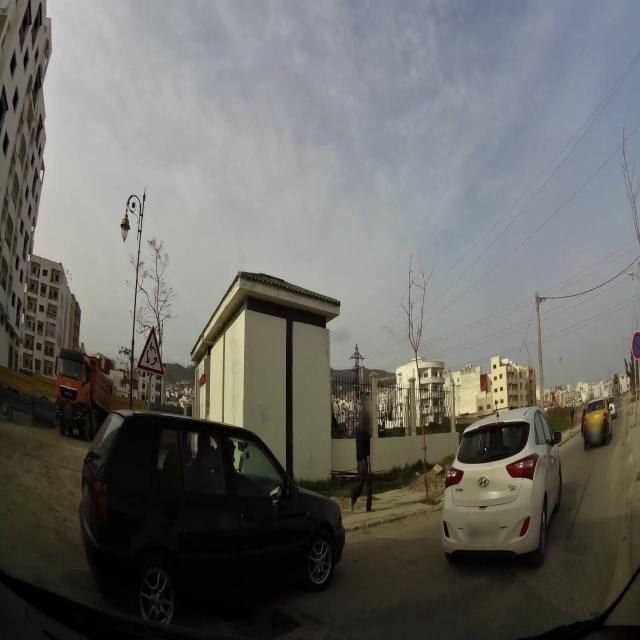forb_stopping: (633, 334, 639, 357)
